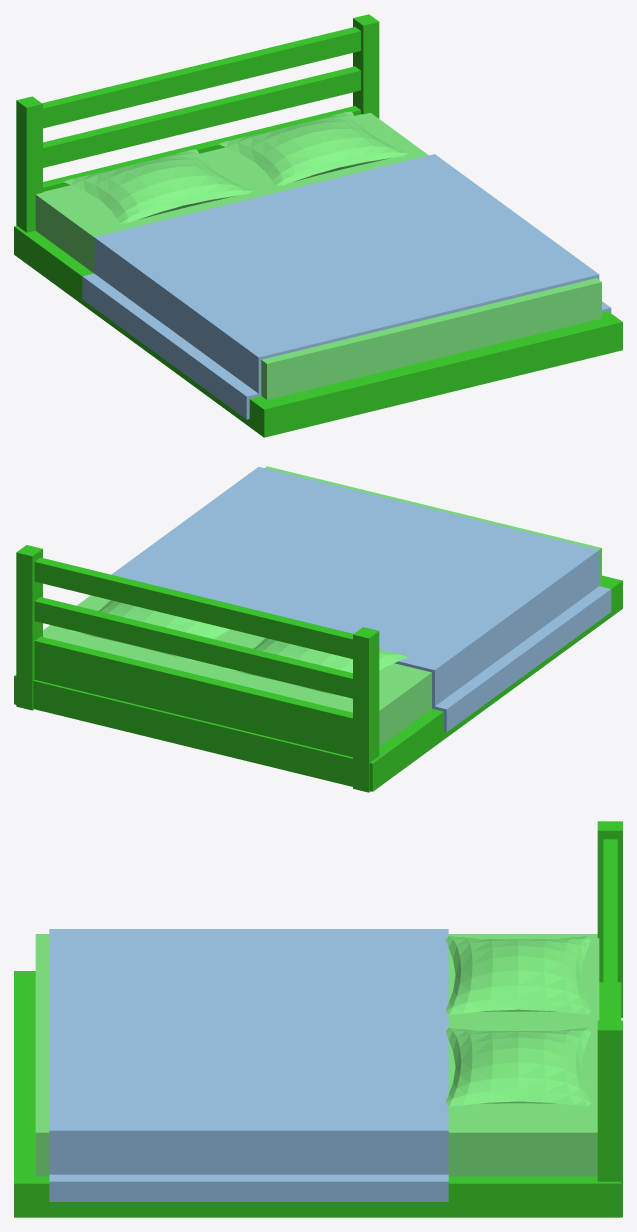
File: Bed_01.fbx
The picture shows the model from 3 angles, top to bottom: view 1: azimuth 30°, elevation 25°; view 2: azimuth 150°, elevation 25°; view 3: azimuth 270°, elevation 25°; orthographic projection. The views are drawn at different scales.
Parts seen in each view (by area): view 1: Bed_01; view 2: Bed_01; view 3: Bed_01.
Boxes of the visible parts, x1,y1,x2,y2 form: Bed_01: [14, 14, 622, 437]; Bed_01: [14, 466, 622, 792]; Bed_01: [14, 821, 622, 1217].
Size of the model in its own units: 203 by 82 by 242.
